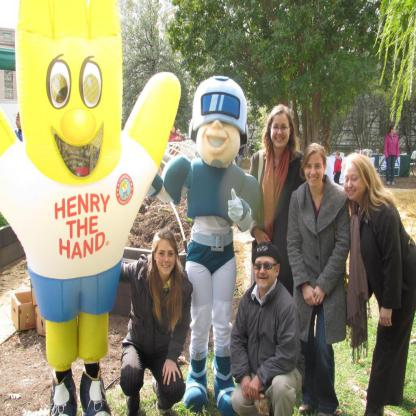face: (253, 253, 275, 290), (344, 167, 366, 203), (304, 153, 324, 187), (272, 117, 291, 150), (157, 243, 175, 276), (393, 127, 397, 134), (335, 153, 338, 159), (173, 127, 176, 133)
